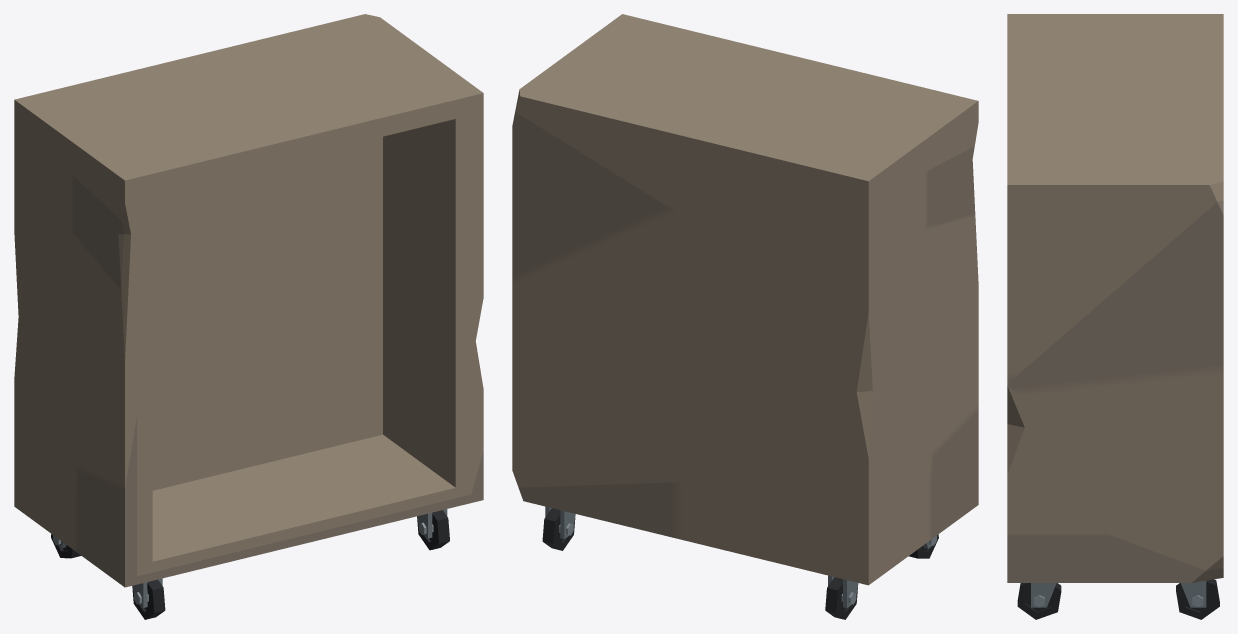
File: SM_Prop_ToolCabinet_02.fbx
3 views of the same model, side by side, from view 1: azimuth 30°, elevation 25°; view 2: azimuth 150°, elevation 25°; view 3: azimuth 270°, elevation 25° (orthographic). The views are drawn at different scales.
Visible parts, largest first — view 1: SM_Prop_ToolCabinet_02; view 2: SM_Prop_ToolCabinet_02; view 3: SM_Prop_ToolCabinet_02.
Part boxes in pixels (<box>): SM_Prop_ToolCabinet_02: <box>14,14,483,619</box>; SM_Prop_ToolCabinet_02: <box>512,14,978,619</box>; SM_Prop_ToolCabinet_02: <box>1007,14,1223,619</box>.
Bounding box in the file's own units: 81.01 × 98.96 × 43.28.
